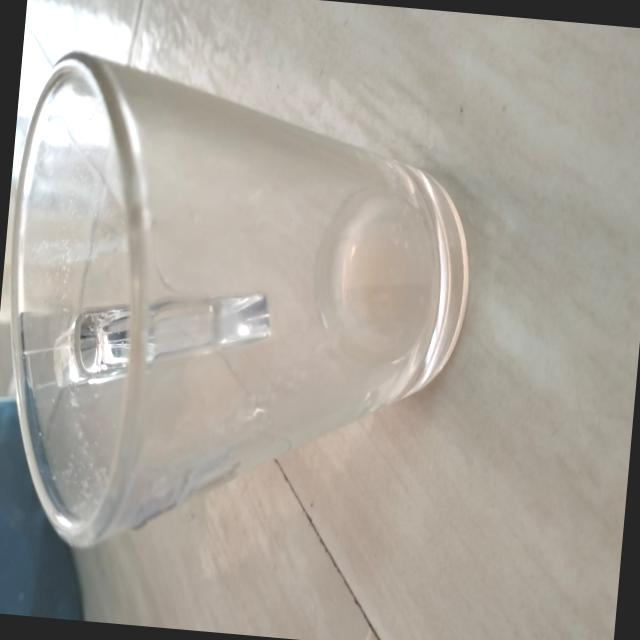glass-VX4N: (0, 43, 488, 574)
